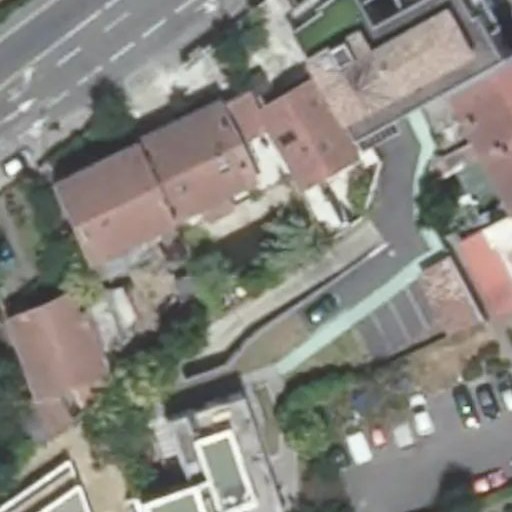pool: (217, 240, 294, 243)
